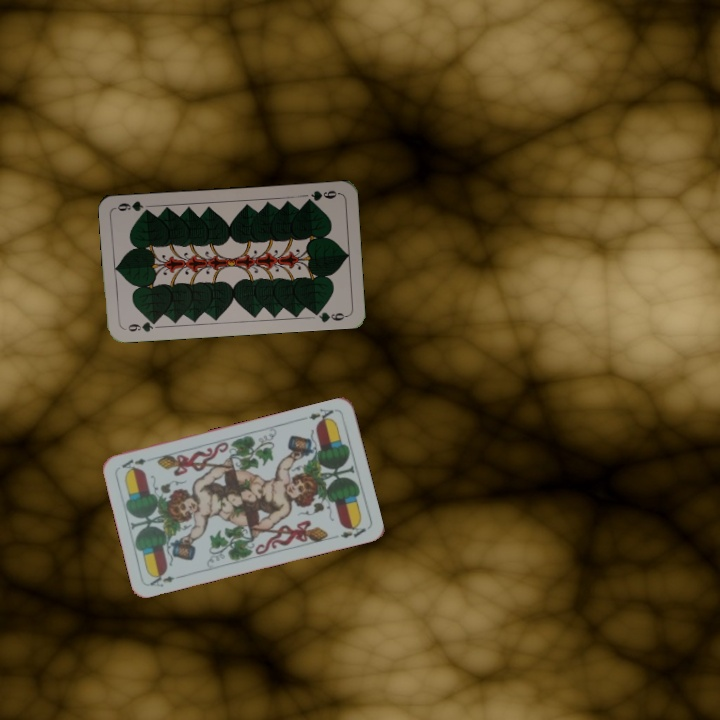EA: (146, 568, 186, 589), (305, 405, 336, 426)
G9: (301, 186, 342, 206), (124, 316, 161, 334)
